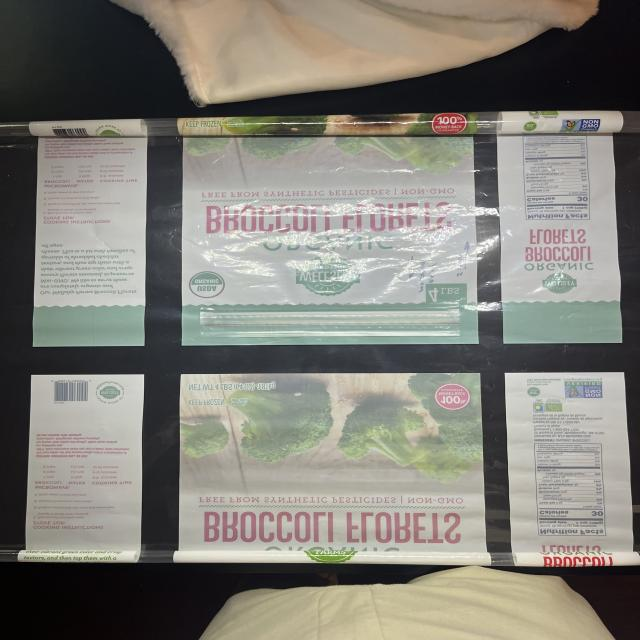zip_l: (200, 302, 460, 339)
